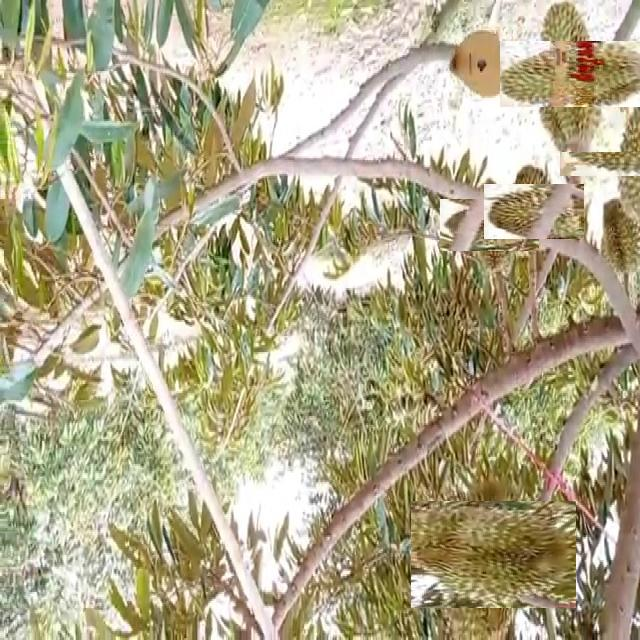durian: (426, 486, 562, 623), (518, 21, 624, 127), (494, 172, 572, 251), (451, 186, 527, 262), (586, 124, 640, 204), (601, 193, 639, 277)
